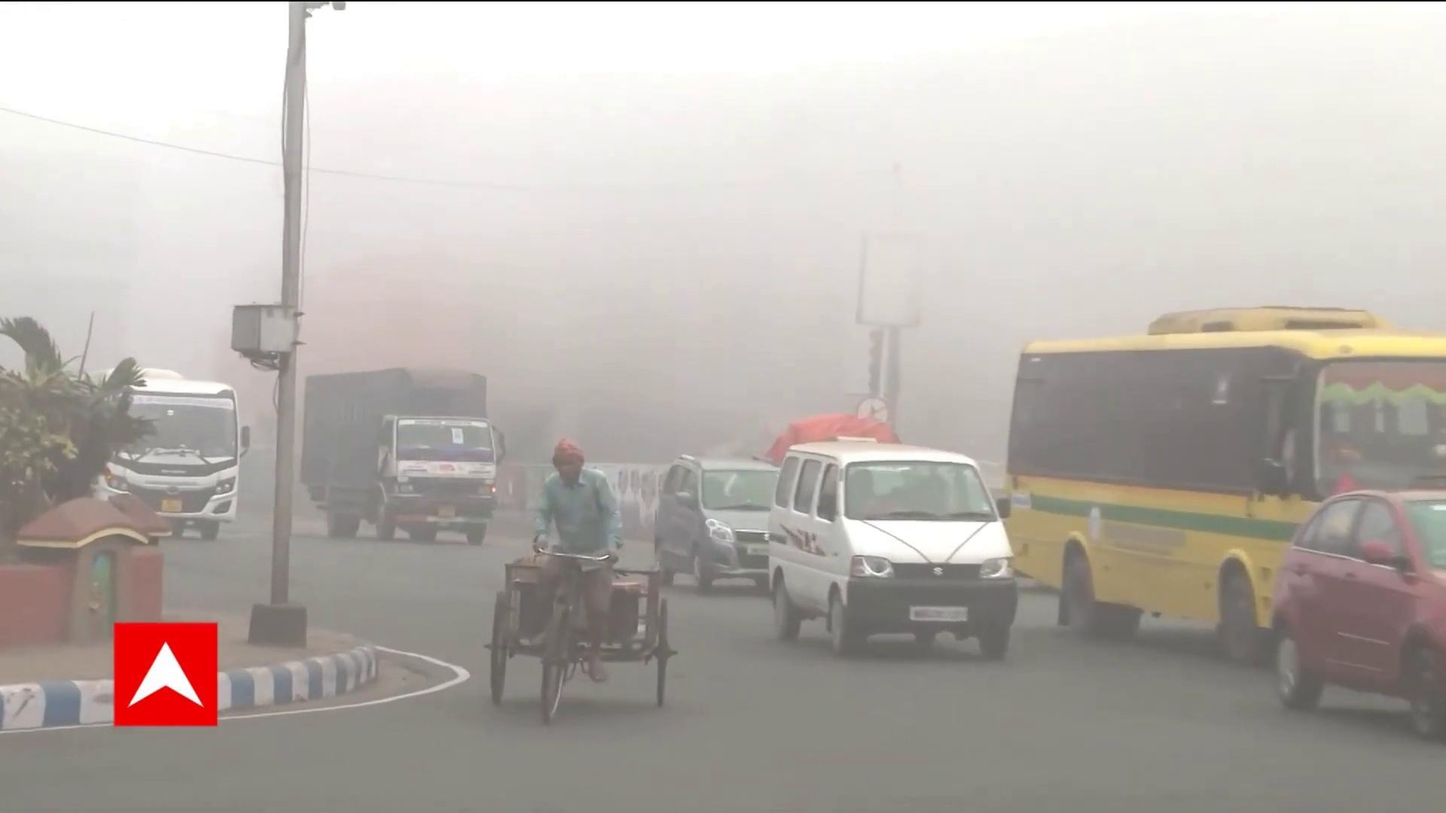Bus: (998, 303, 1446, 662), (100, 360, 247, 537)
Car: (763, 438, 1019, 661), (1255, 484, 1446, 748), (651, 454, 806, 599)
Truck: (291, 361, 508, 549)
